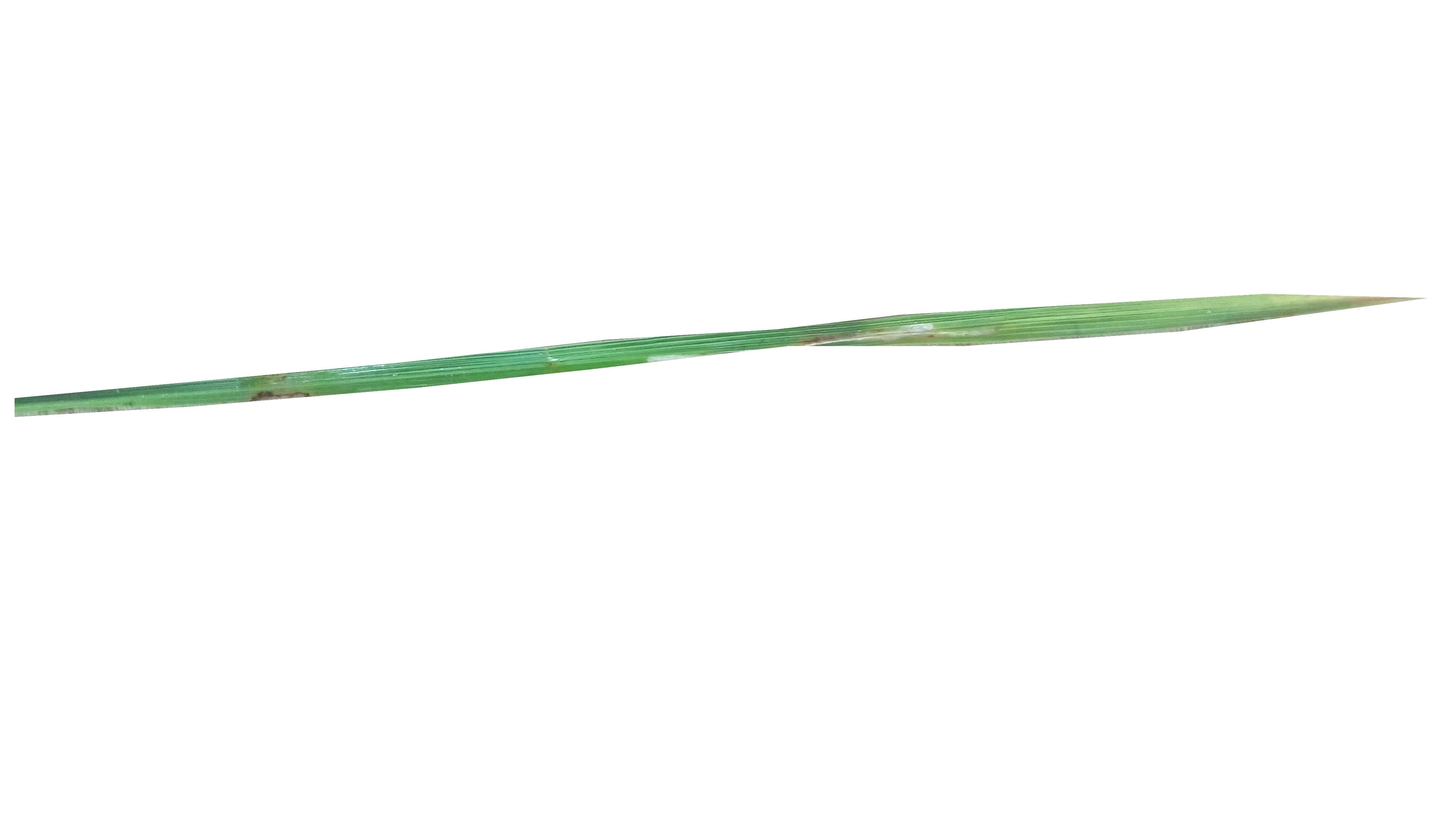Blight: (794, 321, 996, 342)
Rice blast: (249, 386, 315, 401)
